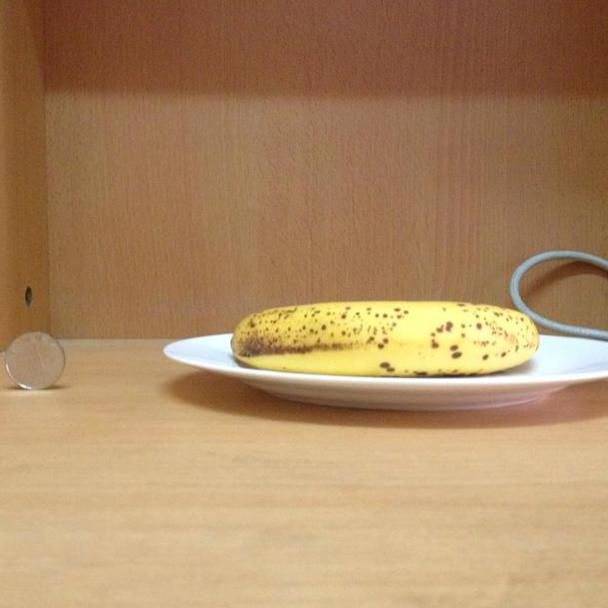banana: (233, 298, 544, 378)
